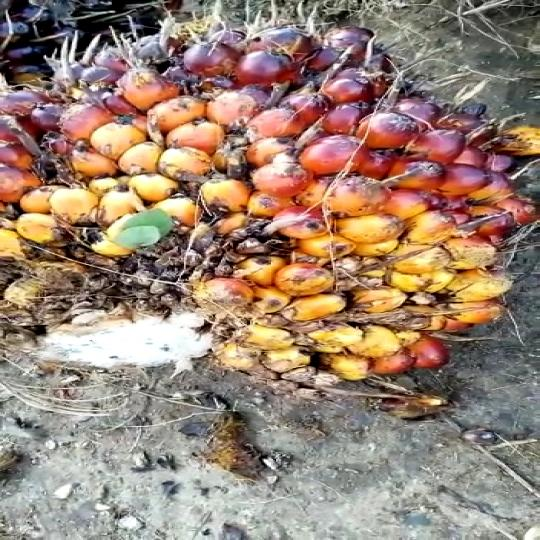masak: (0, 16, 540, 437)
